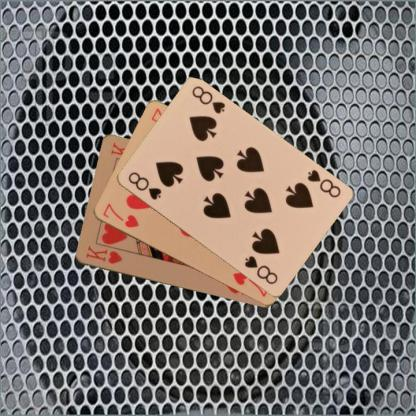7h: (99, 201, 140, 230)
8s: (125, 169, 162, 202), (304, 167, 342, 199)
Kh: (82, 243, 124, 265)
